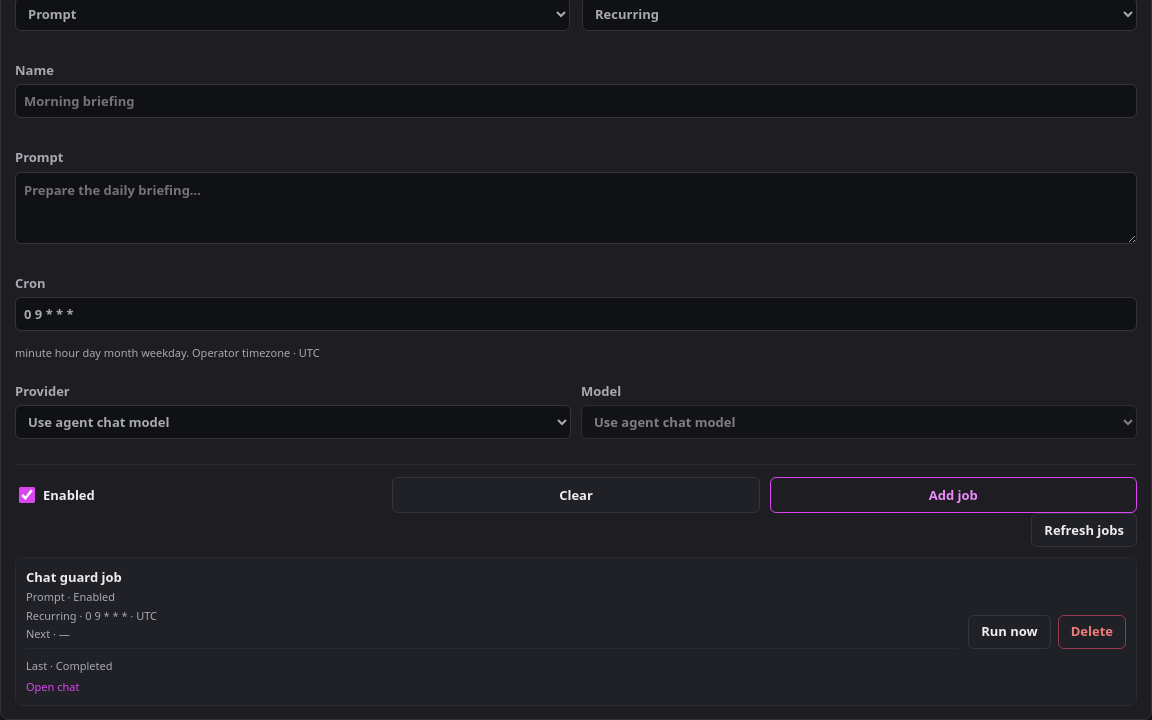
Test case: AgentSchedules integration › uses the shared unsaved guard before chat navigation: Discard
(page scrolled)
Click the button "Chat guard job".
click(74, 577)  # box [26,568,958,642]
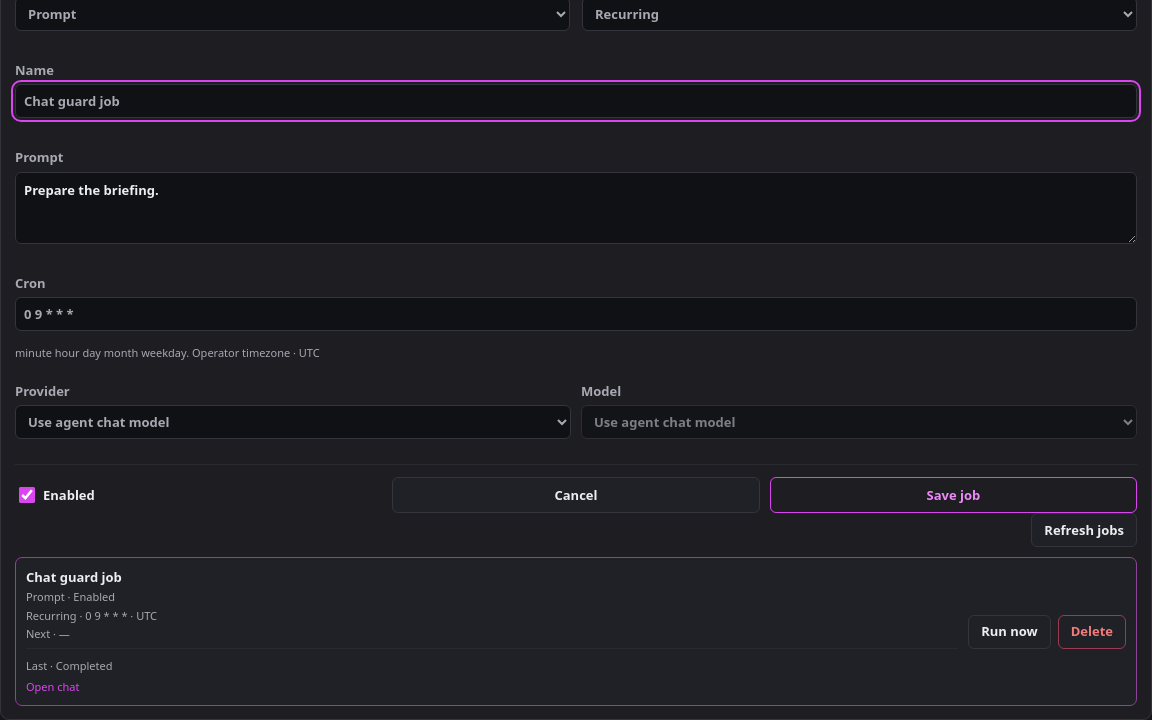
Replace the text in the text box labelled "Prompt" with "Unsaved schedule prompt." at (576, 208), box [15,172,1137,244]
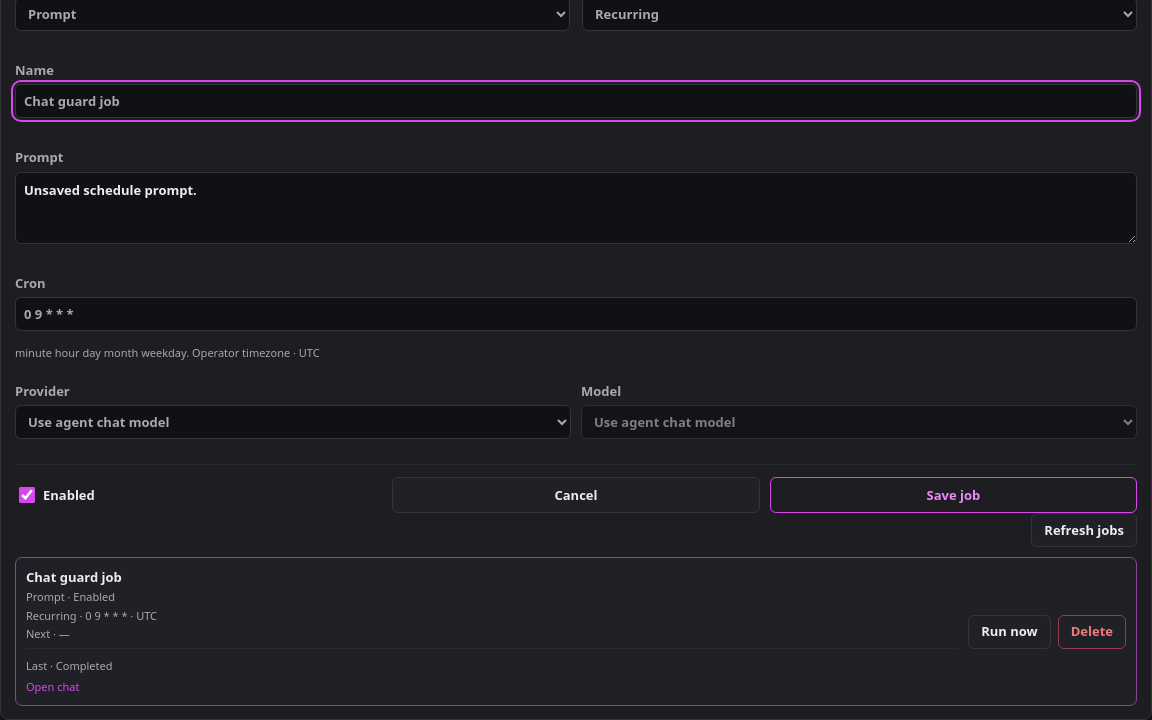
Click the button "Open chat".
click(53, 686)  # box [26,679,80,694]
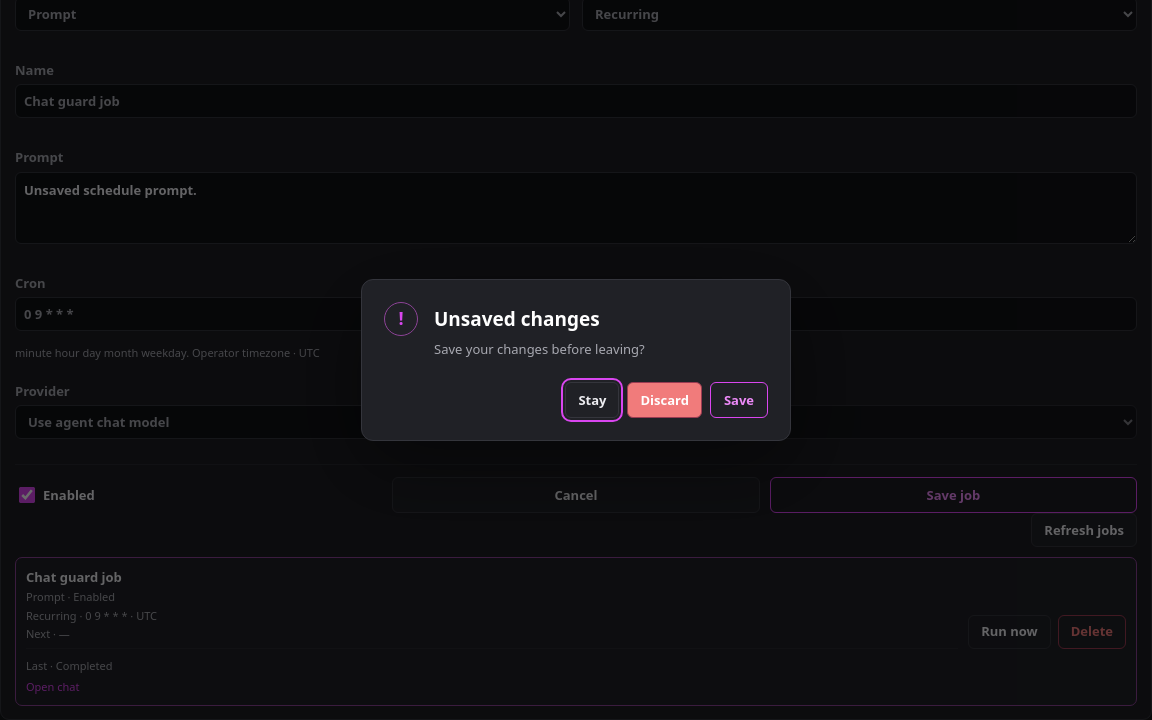
Click the button "Discard".
click(665, 400)  # box [627,382,702,418]
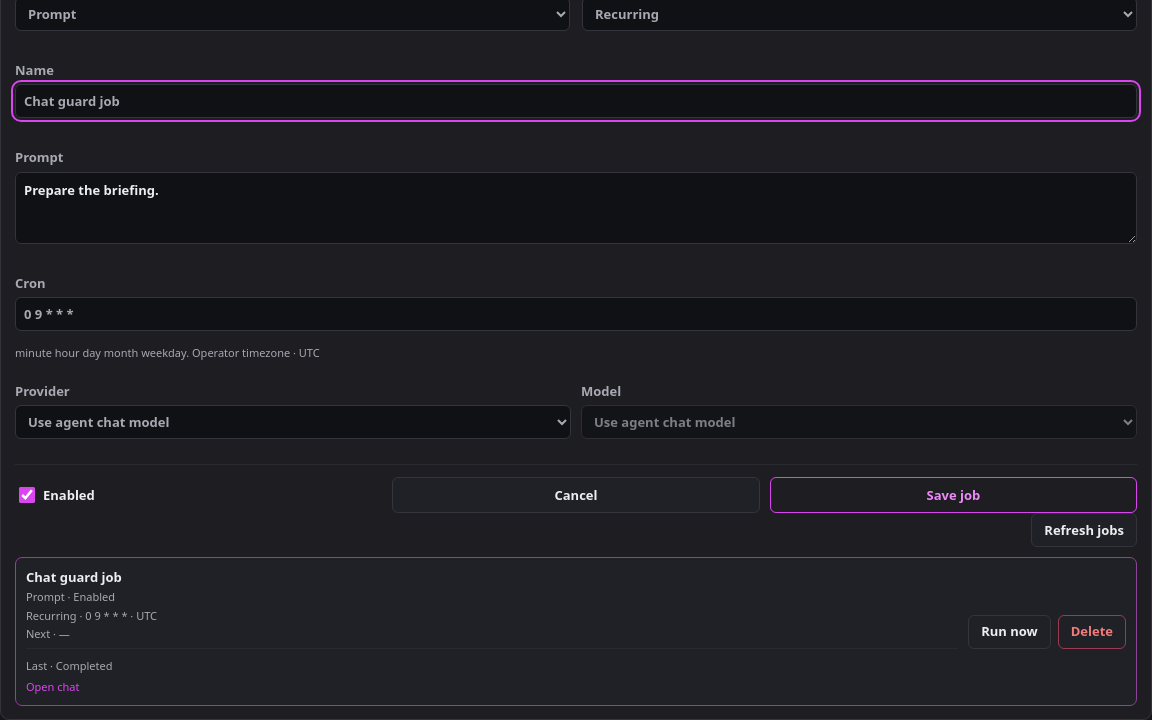
Check: the text box labelled "Prompt" holds "Prepare the briefing.", box [15,172,1137,244]
